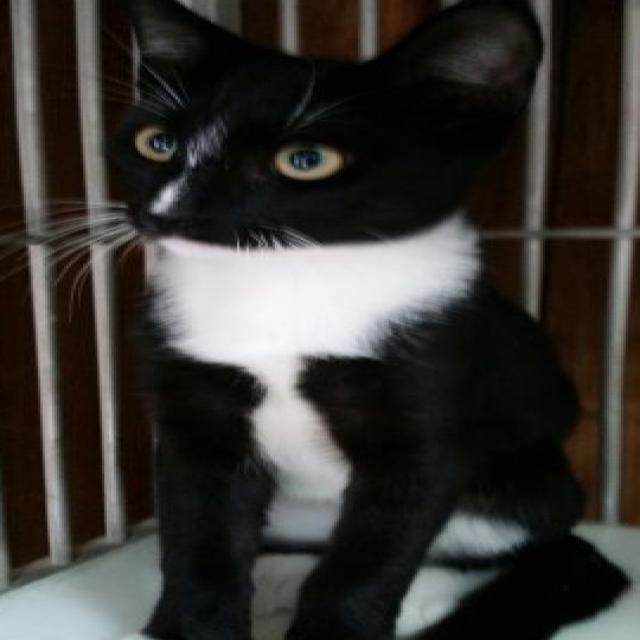Tuxedo: (76, 0, 640, 640)
